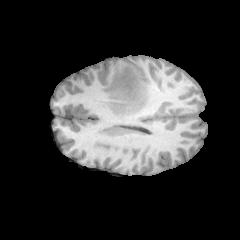glioma: (102, 66, 151, 116)
